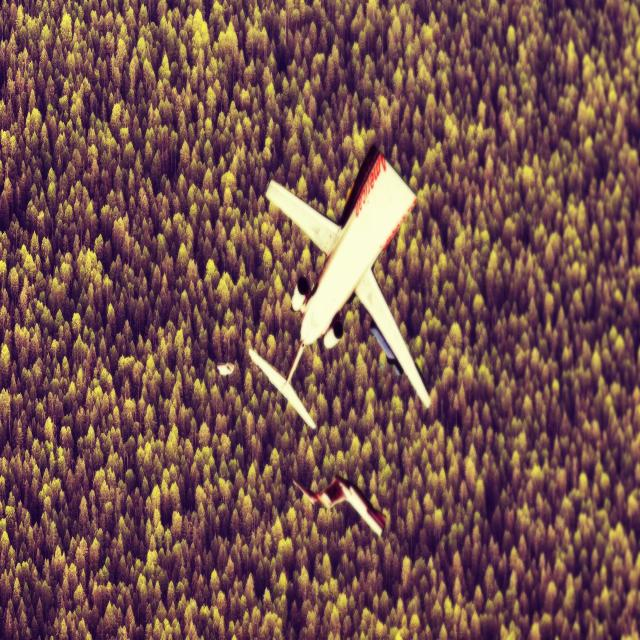airplane: (248, 143, 432, 429), (291, 474, 386, 538)
